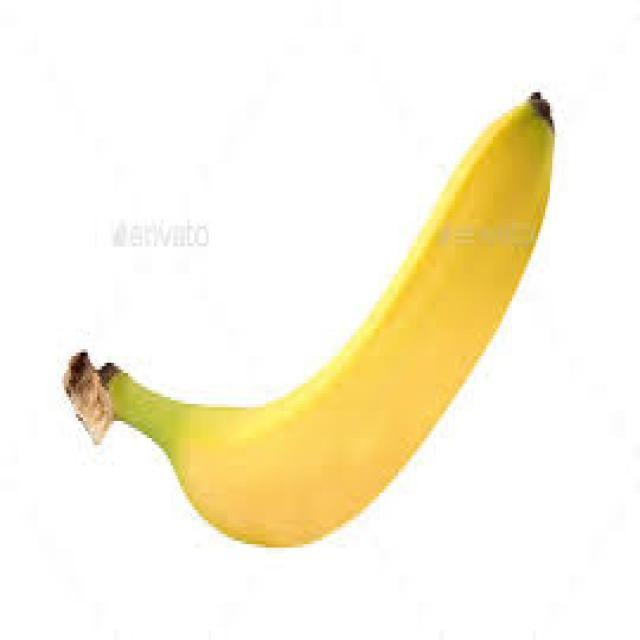non_orange: (72, 89, 557, 555)
